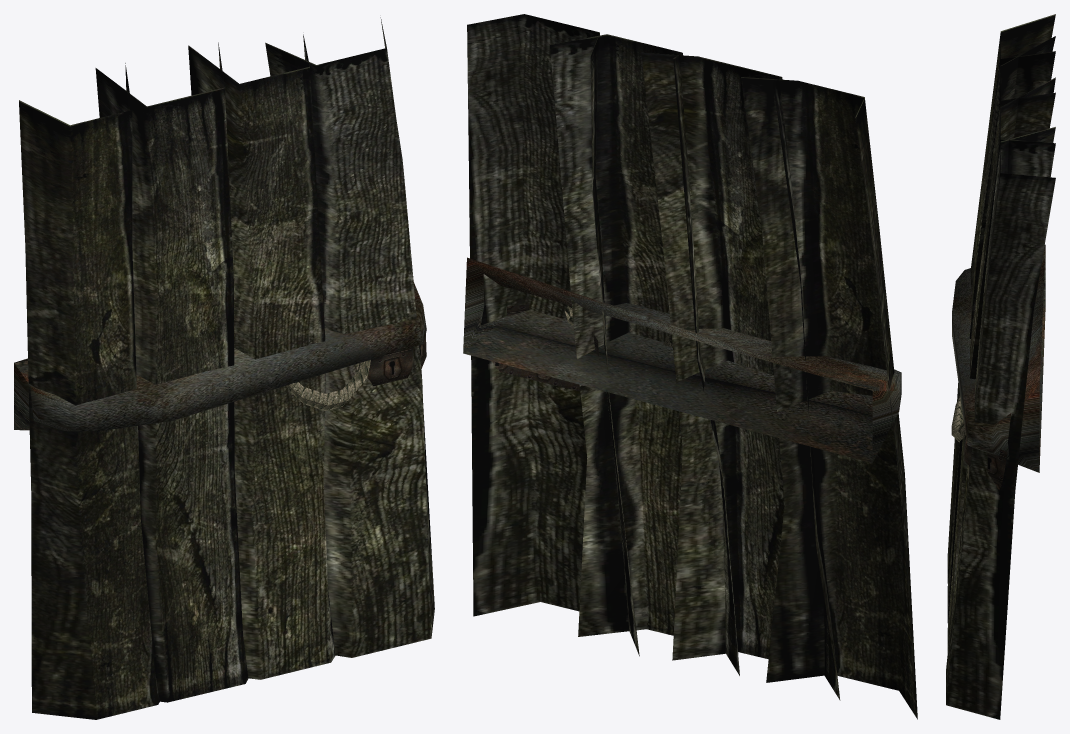
Rendered from ex_de_shack_door.obj.
3 views of the same model, side by side, from view 1: azimuth 30°, elevation 25°; view 2: azimuth 150°, elevation 25°; view 3: azimuth 270°, elevation 25° (orthographic). The views are drawn at different scales.
Visible parts, largest first — view 1: nifid_1-matrix_Tri_Ex_De_Shack_Door_0-lib, nifid_6-matrix_Tri_Ex_De_Shack_Door_1-lib, nifid_16-matrix_Tri_Ex_De_Shack_Door_3-lib, nifid_11-matrix_Tri_Ex_De_Shack_Door_2-lib; view 2: nifid_1-matrix_Tri_Ex_De_Shack_Door_0-lib, nifid_6-matrix_Tri_Ex_De_Shack_Door_1-lib, nifid_11-matrix_Tri_Ex_De_Shack_Door_2-lib; view 3: nifid_1-matrix_Tri_Ex_De_Shack_Door_0-lib, nifid_6-matrix_Tri_Ex_De_Shack_Door_1-lib, nifid_11-matrix_Tri_Ex_De_Shack_Door_2-lib, nifid_16-matrix_Tri_Ex_De_Shack_Door_3-lib.
Boxes of the visible parts, left/top/right/bottom form: nifid_1-matrix_Tri_Ex_De_Shack_Door_0-lib: left=19, top=17, right=434, bottom=719; nifid_6-matrix_Tri_Ex_De_Shack_Door_1-lib: left=14, top=282, right=426, bottom=431; nifid_16-matrix_Tri_Ex_De_Shack_Door_3-lib: left=286, top=360, right=370, bottom=410; nifid_11-matrix_Tri_Ex_De_Shack_Door_2-lib: left=367, top=334, right=426, bottom=386; nifid_1-matrix_Tri_Ex_De_Shack_Door_0-lib: left=467, top=14, right=917, bottom=719; nifid_6-matrix_Tri_Ex_De_Shack_Door_1-lib: left=463, top=257, right=901, bottom=462; nifid_11-matrix_Tri_Ex_De_Shack_Door_2-lib: left=491, top=304, right=598, bottom=391; nifid_1-matrix_Tri_Ex_De_Shack_Door_0-lib: left=946, top=14, right=1055, bottom=719; nifid_6-matrix_Tri_Ex_De_Shack_Door_1-lib: left=952, top=244, right=1045, bottom=472; nifid_11-matrix_Tri_Ex_De_Shack_Door_2-lib: left=964, top=437, right=1007, bottom=489; nifid_16-matrix_Tri_Ex_De_Shack_Door_3-lib: left=951, top=395, right=965, bottom=442.
Size of the model in its own units: 2.76 by 3.85 by 0.7021.
